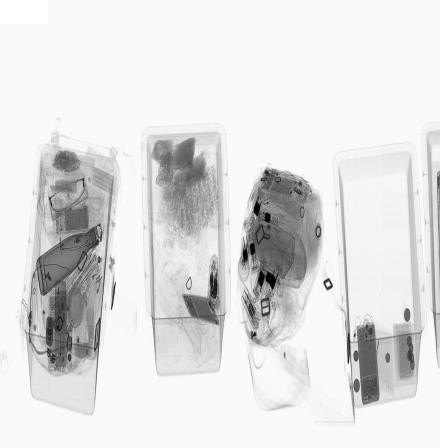Powerbank: (55, 206, 90, 235)
